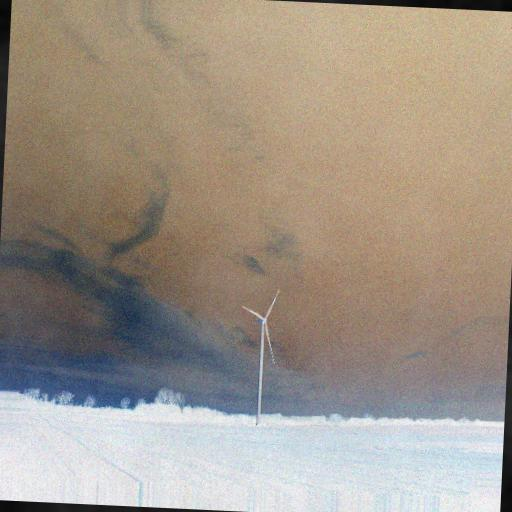wind turbine: (236, 288, 284, 426)
